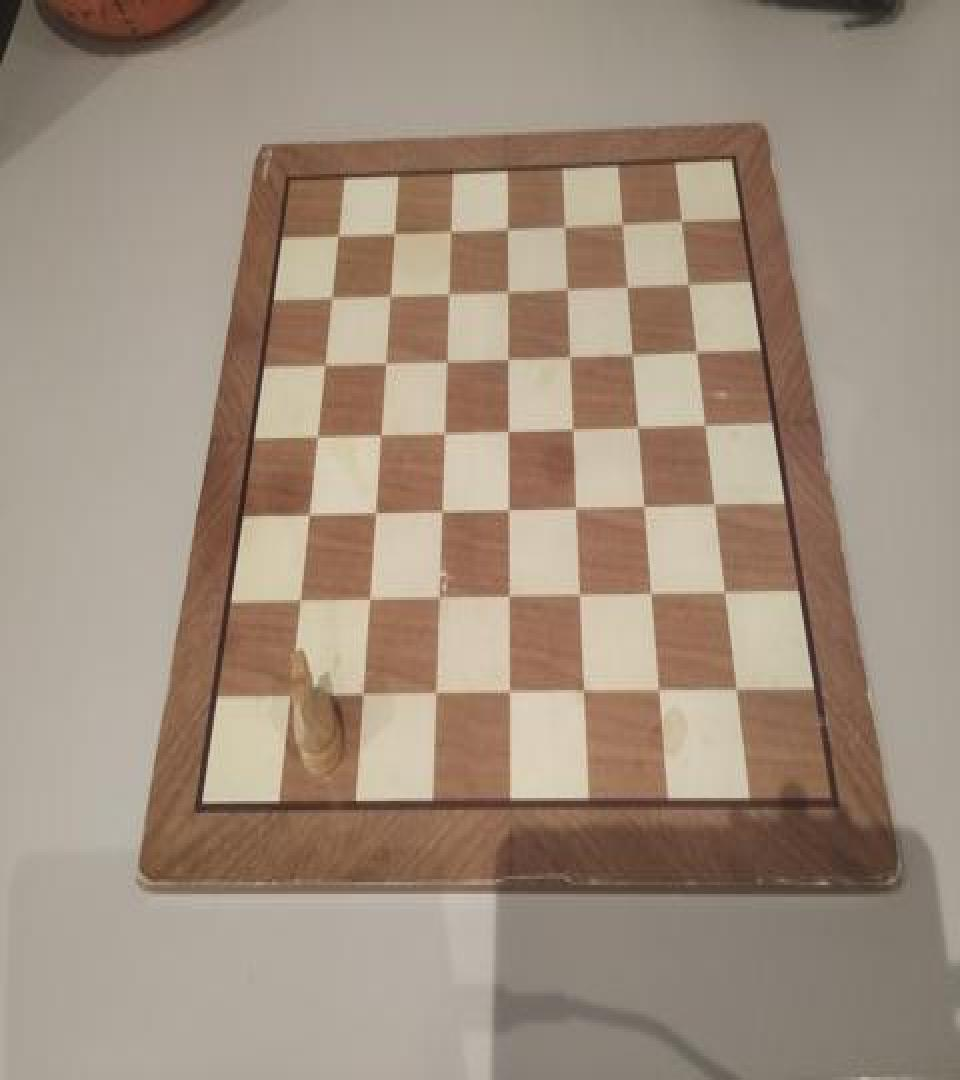xcorner: (496, 499, 516, 530), (435, 280, 455, 311), (351, 687, 371, 717), (424, 686, 444, 716), (498, 684, 518, 714), (573, 681, 593, 711), (649, 680, 669, 710), (726, 678, 746, 708), (288, 594, 308, 624), (357, 591, 377, 621), (426, 590, 446, 620), (569, 585, 589, 615), (641, 582, 661, 612), (296, 507, 316, 537), (362, 504, 382, 534), (429, 502, 449, 532), (565, 496, 585, 526), (634, 494, 654, 524), (704, 492, 724, 522), (304, 428, 324, 458), (367, 424, 387, 454), (431, 422, 451, 452), (496, 418, 516, 448), (561, 416, 581, 446), (627, 412, 647, 442), (694, 410, 714, 440), (311, 354, 331, 384), (371, 351, 391, 381), (433, 348, 453, 378), (495, 345, 515, 375), (558, 342, 578, 372), (621, 339, 641, 369), (685, 336, 705, 366), (317, 286, 337, 316), (375, 284, 395, 314), (494, 278, 514, 308), (555, 273, 575, 303), (615, 270, 635, 300), (677, 267, 697, 297), (323, 225, 343, 255), (379, 220, 399, 250), (436, 218, 456, 248), (494, 214, 514, 244), (552, 210, 572, 240), (610, 207, 630, 237), (669, 202, 689, 232), (279, 689, 299, 718), (497, 587, 517, 616), (714, 581, 734, 610)
